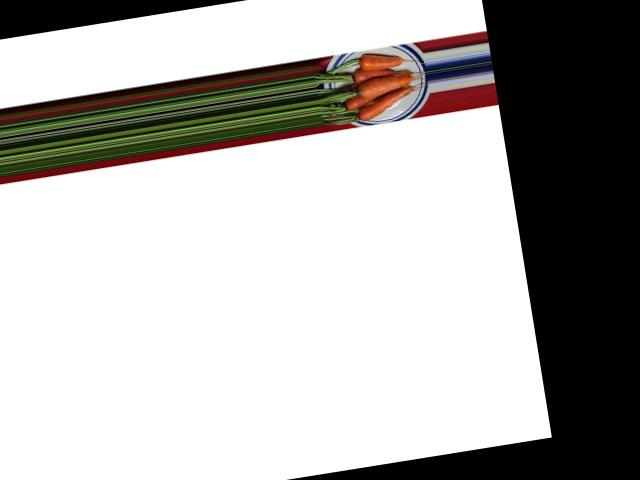carrot: (353, 46, 405, 76)
